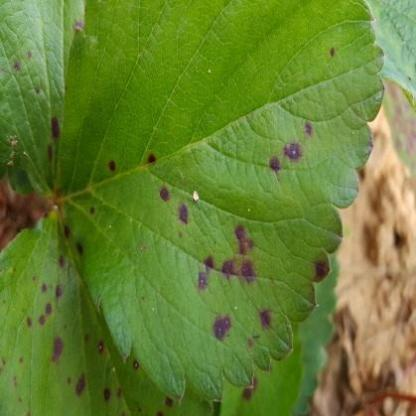Strawberry_Leaf_Spot: (57, 0, 386, 405), (0, 205, 218, 415), (218, 257, 342, 415), (0, 0, 85, 196)
